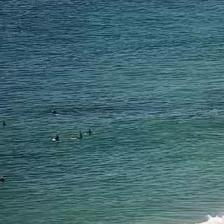surfer: (53, 134, 61, 142), (76, 132, 84, 140), (1, 176, 6, 182), (87, 128, 92, 134), (2, 121, 7, 126), (52, 110, 58, 114)
